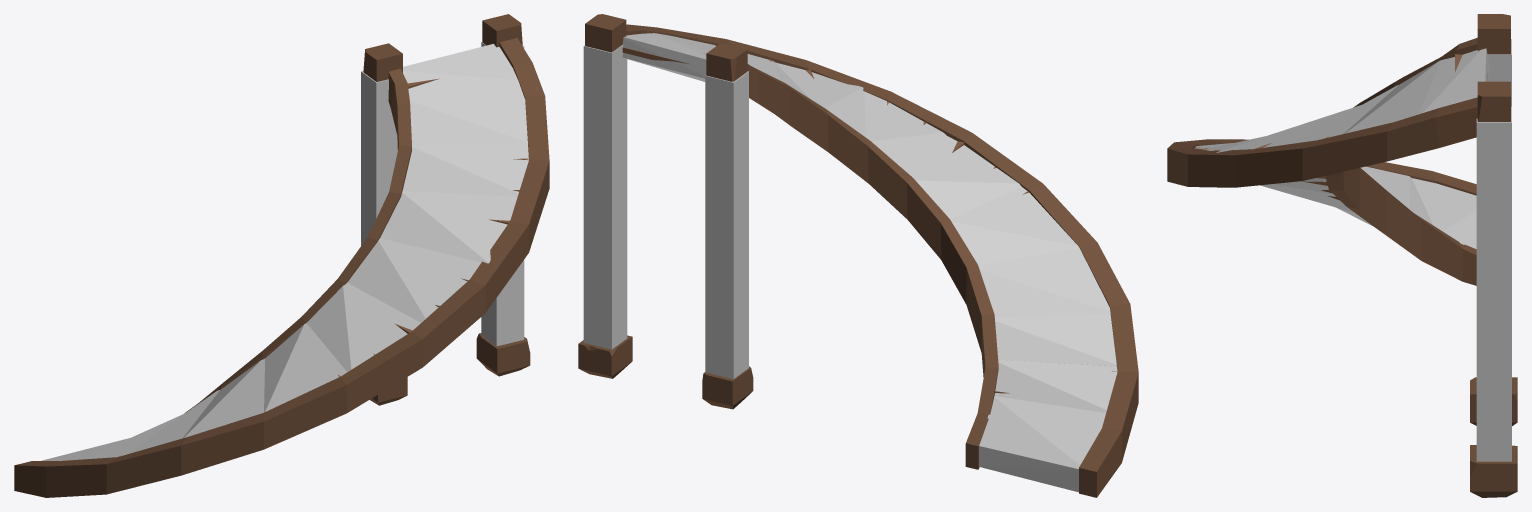
File: SM_Bld_Stairs_Curved_01.fbx
3 renders of one model, left to right at view 1: azimuth 30°, elevation 25°; view 2: azimuth 150°, elevation 25°; view 3: azimuth 270°, elevation 25°, orthographic. The views are drawn at different scales.
Parts seen in each view (by area): view 1: SM_Bld_Stairs_Curved_01_ConvexHulls, SM_Bld_Stairs_Curved_01; view 2: SM_Bld_Stairs_Curved_01_ConvexHulls, SM_Bld_Stairs_Curved_01; view 3: SM_Bld_Stairs_Curved_01, SM_Bld_Stairs_Curved_01_ConvexHulls.
Part boxes in pixels (x1,y1,x2,y2): SM_Bld_Stairs_Curved_01_ConvexHulls: (41, 42, 528, 460); SM_Bld_Stairs_Curved_01: (14, 14, 549, 497); SM_Bld_Stairs_Curved_01_ConvexHulls: (583, 33, 1117, 492); SM_Bld_Stairs_Curved_01: (578, 14, 1138, 497); SM_Bld_Stairs_Curved_01: (1167, 14, 1517, 497); SM_Bld_Stairs_Curved_01_ConvexHulls: (1195, 39, 1511, 461).
Size of the model in its own units: 499 by 260 by 332.
Materials: 2 (1 with a texture image).
